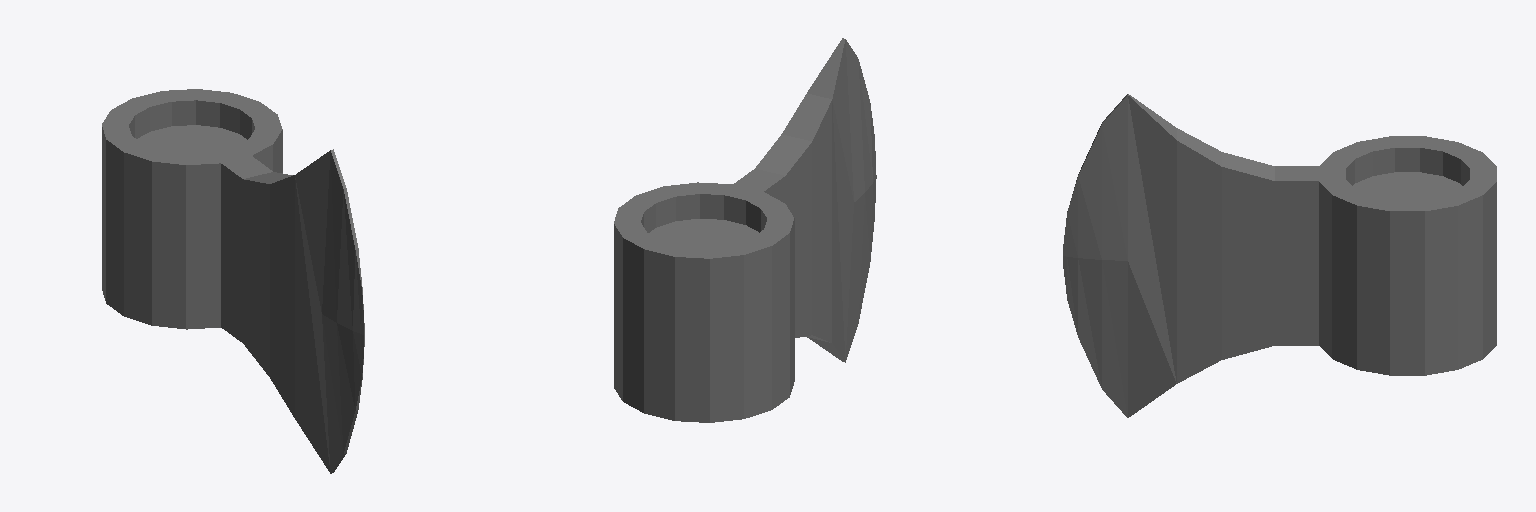
3 views of the same model, side by side, from view 1: azimuth 30°, elevation 25°; view 2: azimuth 150°, elevation 25°; view 3: azimuth 270°, elevation 25° (orthographic).
Visible parts, largest first — view 1: Cylinder.001; view 2: Cylinder.001; view 3: Cylinder.001.
Boxes of the visible parts, <box> form: Cylinder.001: <box>102,89,364,473</box>; Cylinder.001: <box>614,38,876,422</box>; Cylinder.001: <box>1063,94,1496,417</box>.
Bounding box in the file's own units: 1.96 × 3.94 × 4.78.
1 materials, 1 textured.